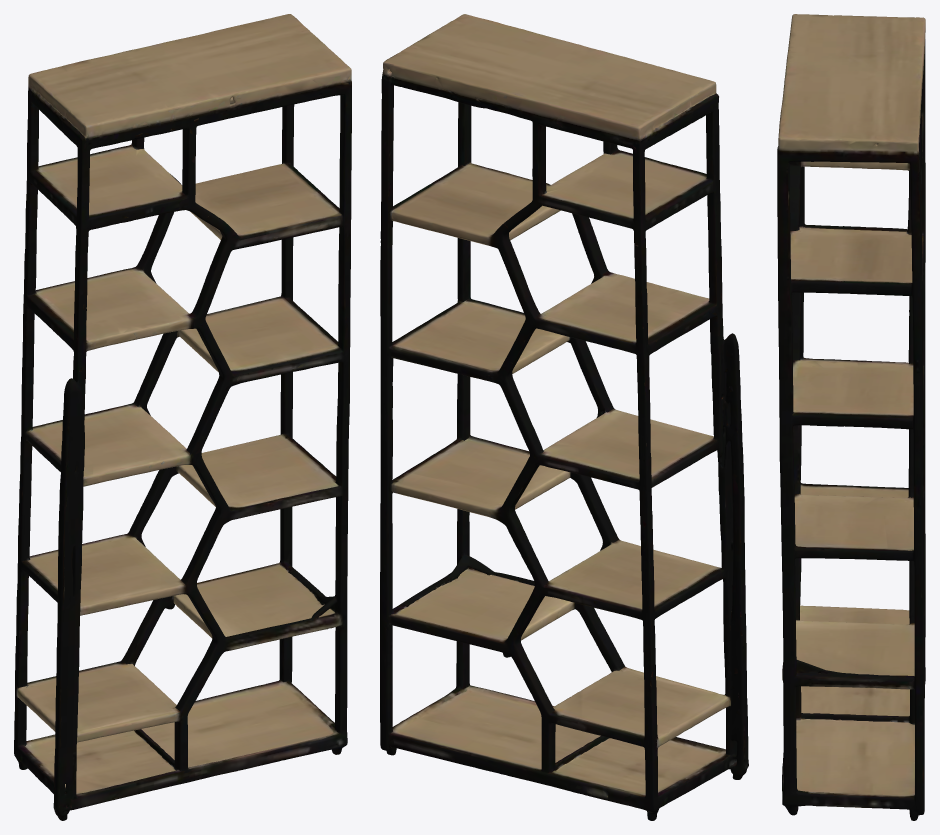
File: zig-zag-javon.glb
The picture shows the model from 3 angles, left to right: view 1: azimuth 30°, elevation 25°; view 2: azimuth 150°, elevation 25°; view 3: azimuth 270°, elevation 25°; orthographic projection.
Visible parts, largest first — view 1: geometry_0; view 2: geometry_0; view 3: geometry_0.
Boxes of the visible parts, <box> form: geometry_0: <box>14,14,351,820</box>; geometry_0: <box>380,14,748,820</box>; geometry_0: <box>777,14,925,820</box>.
Size of the model in its own units: 0.4568 by 1 by 0.1983.
Materials: 1 (1 with a texture image).
